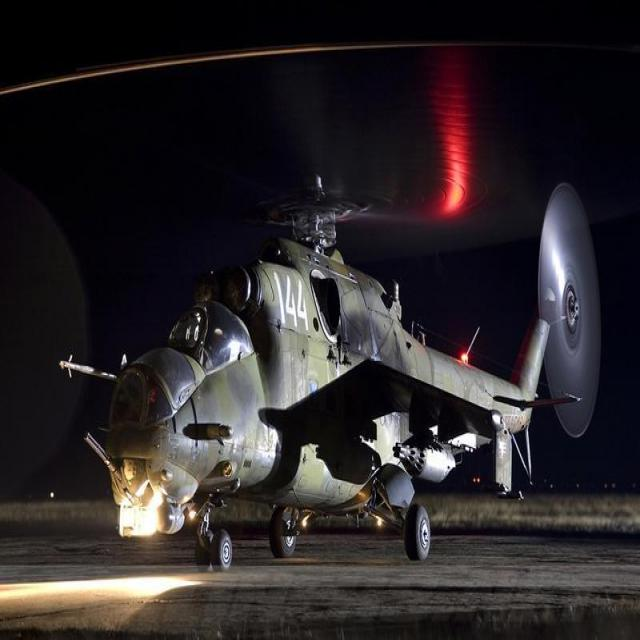MIL_HELO: (35, 85, 619, 562)
